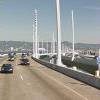Bridge: (31, 39, 97, 98)
